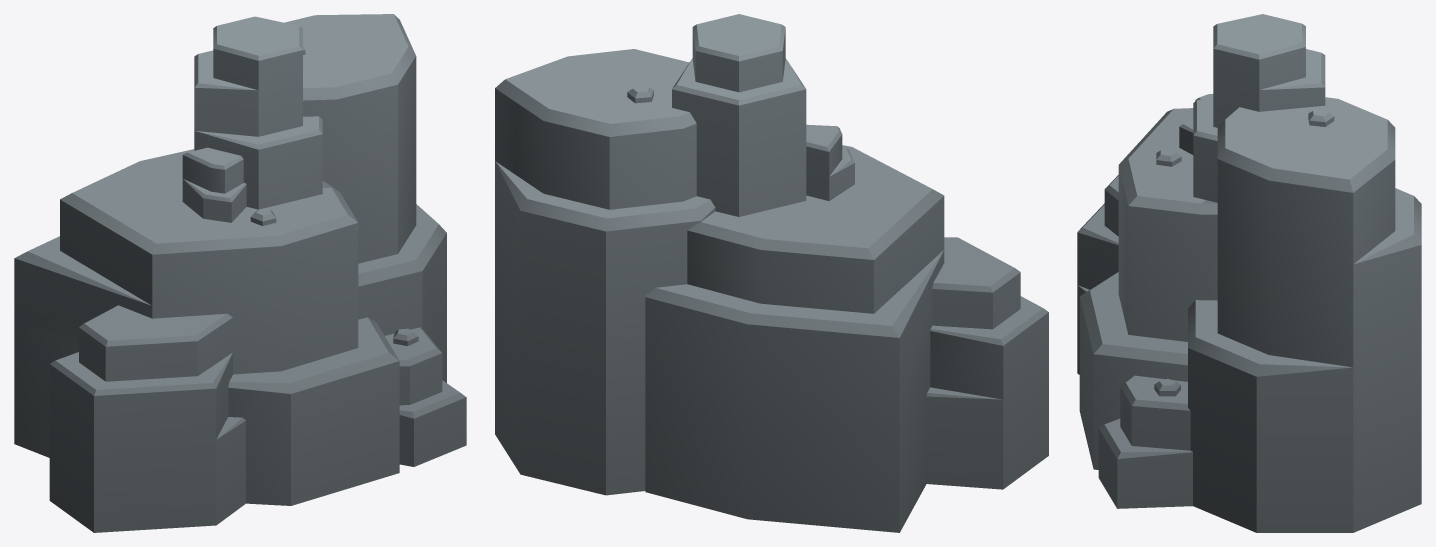
Rendered from Rock_1_M.glb.
3 views of the same model, side by side, from view 1: azimuth 30°, elevation 25°; view 2: azimuth 150°, elevation 25°; view 3: azimuth 270°, elevation 25° (orthographic). The views are drawn at different scales.
Parts seen in each view (by area): view 1: Rock_1_M_Color1; view 2: Rock_1_M_Color1; view 3: Rock_1_M_Color1.
Boxes of the visible parts, x1,y1,x2,y2 form: Rock_1_M_Color1: (14, 14, 466, 532); Rock_1_M_Color1: (495, 14, 1048, 532); Rock_1_M_Color1: (1077, 14, 1421, 532).
Size of the model in its own units: 3.91 by 3.52 by 2.71.
Materials: 1 (1 with a texture image).
